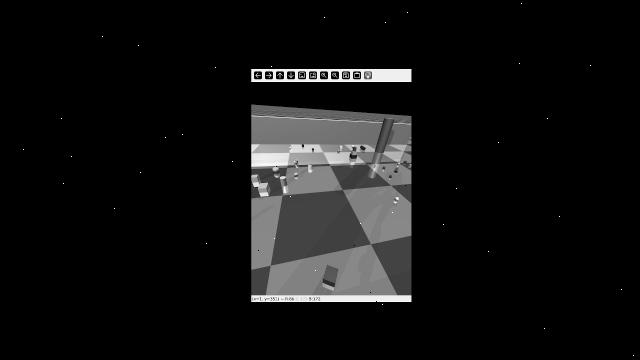cilindro: (374, 117, 395, 153), (278, 175, 287, 188), (307, 163, 314, 172), (293, 159, 301, 166), (361, 145, 367, 152), (373, 164, 377, 169), (382, 165, 385, 171), (403, 160, 407, 164)
cuadrado: (317, 263, 344, 288), (251, 170, 260, 185), (338, 144, 344, 150), (352, 146, 358, 152), (288, 146, 293, 152), (301, 143, 306, 148), (408, 163, 412, 169), (392, 170, 399, 173)
esfera: (388, 174, 394, 178), (395, 196, 399, 201), (396, 161, 400, 166), (336, 150, 342, 153), (312, 147, 315, 152), (352, 144, 355, 148), (396, 168, 400, 170)
rectangulo: (256, 181, 273, 194), (349, 154, 359, 159), (351, 151, 358, 155)
